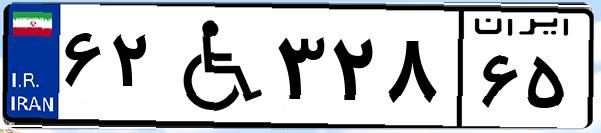2: (330, 28, 385, 110), (110, 28, 158, 98)
3: (270, 28, 330, 110)
5: (525, 38, 570, 115)
6: (57, 26, 110, 100), (475, 38, 525, 113)
8: (385, 28, 445, 110)
ژ (معلولین و جانبازان): (158, 12, 270, 120)
